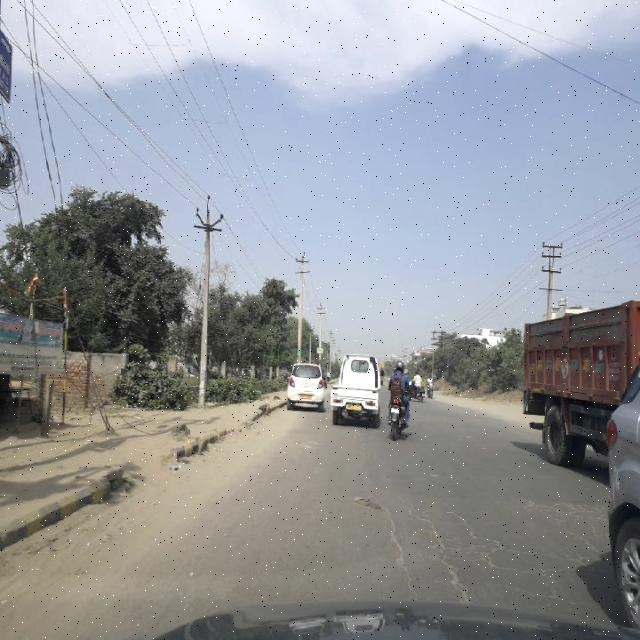D00: (380, 504, 492, 601)
D20: (458, 504, 599, 603)
